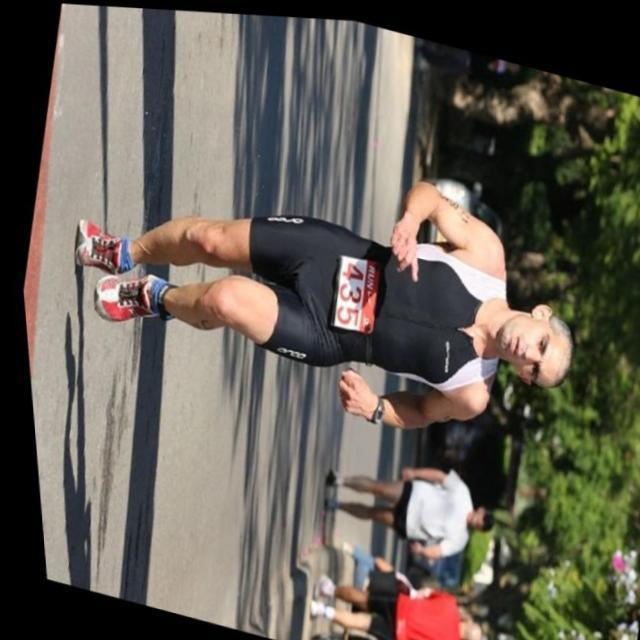dorsal: (318, 245, 383, 338)
